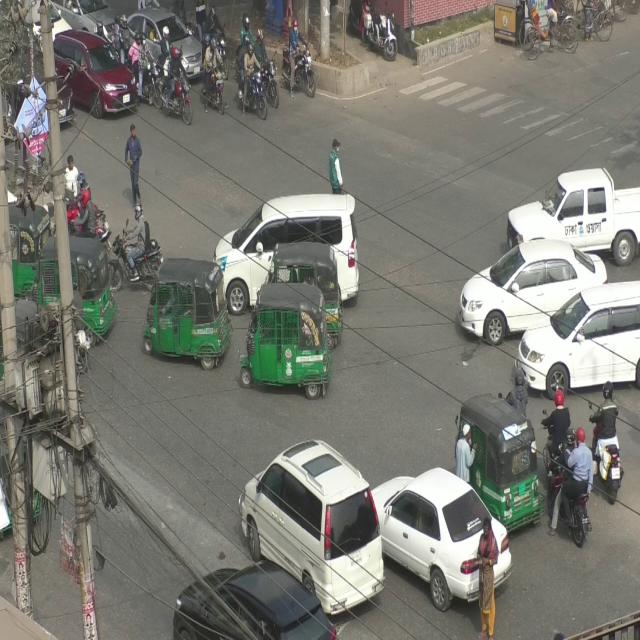cng: (134, 240, 232, 376), (448, 387, 534, 541), (244, 276, 332, 409), (259, 226, 343, 334), (38, 229, 110, 335)
